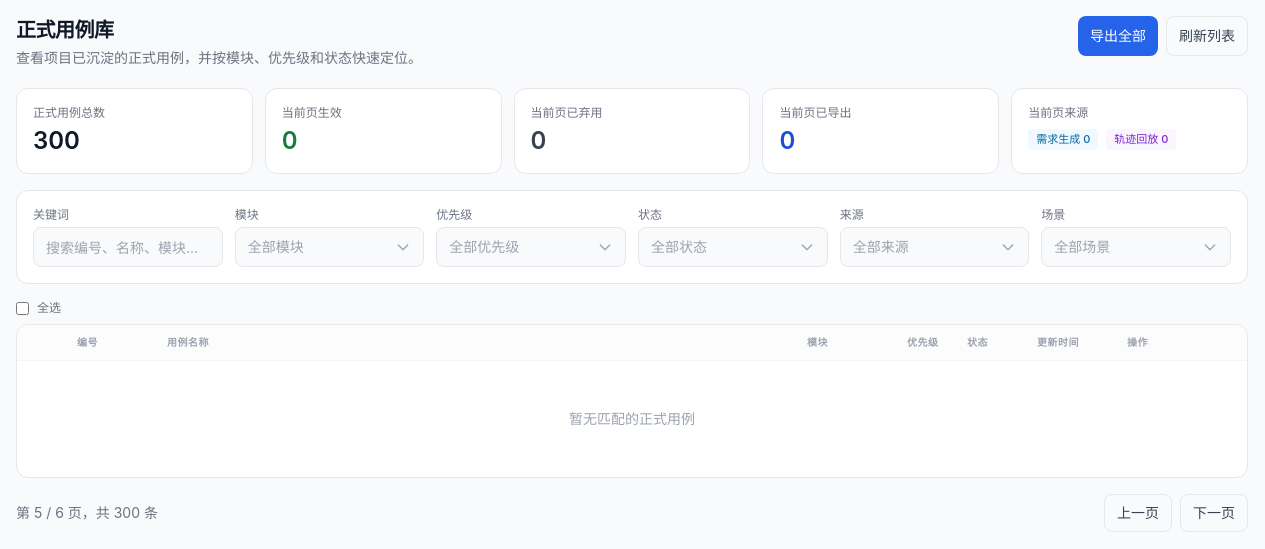
Test: case libraries use server-side filtering › reloads formal cases from page zero with the current filters
Expected: the text "第 5 / 6 页，共 300 条" is shown, x1=16 y1=503 x2=158 y2=523
In the field with placeholder "搜索编号、名称、模块...": (128, 247) x1=33 y1=227 x2=223 y2=267, type "动态二维码"
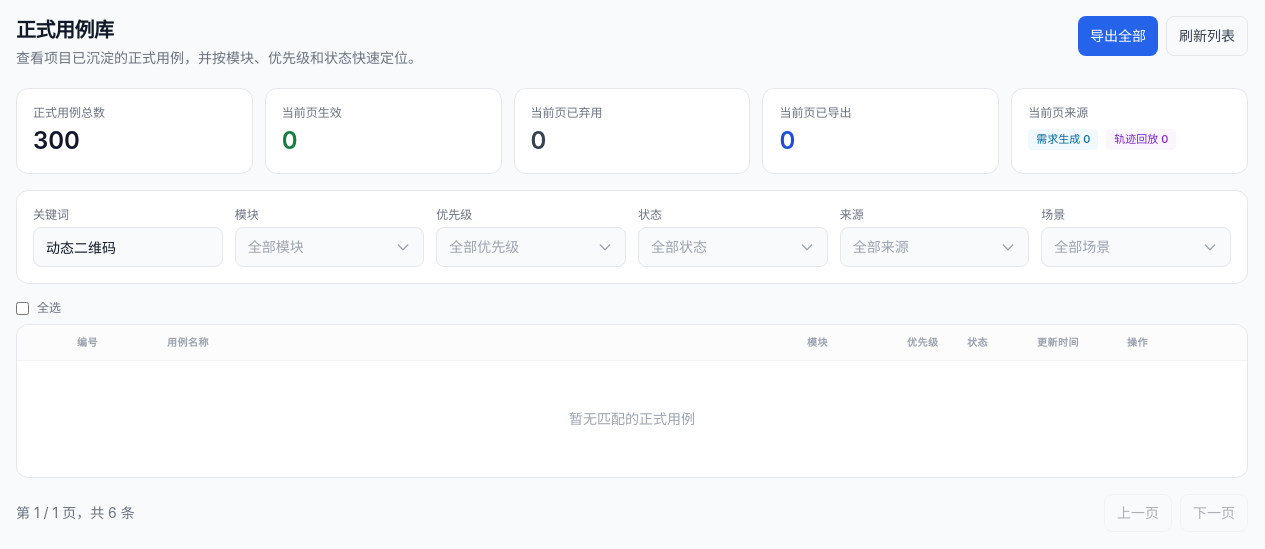
Result: the text "第 1 / 1 页，共 6 条" is shown at x1=16 y1=503 x2=135 y2=523
